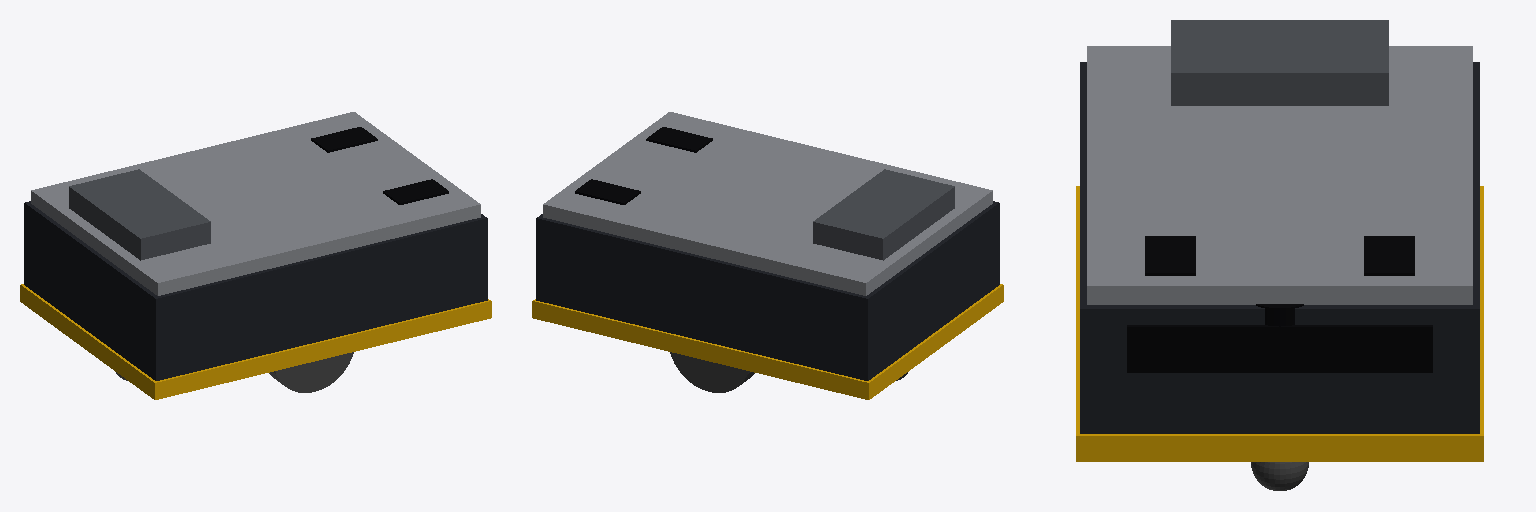
robot.urdf — warehouse_amr:
<?xml version="1.0" ?><!-- =================================================================================== --><!-- |    This document was autogenerated by xacro from src/sim/robot_description/urdf/warehouse_amr.urdf.xacro | --><!-- |    EDITING THIS FILE BY HAND IS NOT RECOMMENDED                                 | --><!-- =================================================================================== --><robot name="warehouse_amr"><!-- Low-deck warehouse AMR: the size a 1.80 m picking aisle is actually
       designed around (MiR250 / underride-tugger class), replacing the
       0.14 m TurtleBot3 Burger that read as a toy in warehouse_v2.

         body      0.800 x 0.550 m, deck top at 0.350 m
         wheels    r 0.100, separation 0.440, differential, casters fore/aft
         livery    charcoal chassis, hazard-yellow bumper band, grey load deck

       No saturated marker disks: heading is carried by the chassis itself.
       Seen from an oblique ceiling camera the front has a recessed sensor
       bar and the rear a raised control cabinet, so front and rear are
       distinguishable from above without lab colours.

       The Gazebo entity is still spawned as `turtlebot3` (bringup_sim.launch.py
       `-name`), so every /model/turtlebot3/... bridge and remap is unchanged.

       Keypoints stay virtual points anchored on the chassis, at the deck
       corners of the wheelbase. World Z with base_footprint at z=robot_z:
         z_world = robot_z + base_joint_z(0.010) + pm_marker_z(0.340) = 0.350. --><!-- ===================== --><!-- Materials --><!-- ===================== --><material name="chassis_charcoal"><color rgba="0.16 0.17 0.19 1.0"/></material><material name="deck_grey"><color rgba="0.55 0.56 0.58 1.0"/></material><material name="hazard_yellow"><color rgba="0.85 0.65 0.05 1.0"/></material><material name="sensor_black"><color rgba="0.06 0.06 0.07 1.0"/></material><material name="cabinet_grey"><color rgba="0.33 0.34 0.36 1.0"/></material><material name="dark"><color rgba="0.3 0.3 0.3 1"/></material><!-- ===================== --><!-- Base --><!-- ===================== --><link name="base_footprint"/><joint name="base_joint" type="fixed"><parent link="base_footprint"/><child link="base_link"/><origin xyz="0 0 0.010"/></joint><!-- ONE visual per link, deliberately. The URDF->SDF converter only resolves
       the material of a link's FIRST visual and paints every later one pure
       black (verified with `ign sdf -p`: visuals 1..6 came out 0 0 0 1), which
       rendered the whole chassis as a black slab. Each painted part therefore
       gets its own fixed-jointed link; Gazebo lumps them back into base_link. --><link name="base_link"><visual><origin xyz="0 0 0.195"/><geometry><box size="0.8 0.55 0.230"/></geometry><material name="chassis_charcoal"/></visual><collision><origin xyz="0 0 0.195"/><geometry><box size="0.8 0.55 0.270"/></geometry></collision><inertial><mass value="60.0"/><origin xyz="0 0 0.180"/><!-- solid box 0.80 x 0.55 x 0.26 about its own centre --><inertia ixx="1.85050e+00" ixy="0.0" ixz="0.0" iyy="3.53800e+00" iyz="0.0" izz="4.71250e+00"/></inertial></link><joint name="bumper_joint" type="fixed"><parent link="base_link"/><child link="bumper_link"/><origin xyz="0 0 0.100"/></joint><link name="bumper_link"><visual><geometry><box size="0.812 0.562 0.040"/></geometry><material name="hazard_yellow"/></visual><inertial><mass value="0.001"/><inertia ixx="1e-7" ixy="0" ixz="0" iyy="1e-7" iyz="0" izz="1e-7"/></inertial></link><joint name="deck_joint" type="fixed"><parent link="base_link"/><child link="deck_link"/><origin xyz="0 0 0.325"/></joint><link name="deck_link"><visual><geometry><box size="0.78 0.53 0.030"/></geometry><material name="deck_grey"/></visual><inertial><mass value="0.001"/><inertia ixx="1e-7" ixy="0" ixz="0" iyy="1e-7" iyz="0" izz="1e-7"/></inertial></link><joint name="sensor_bar_joint" type="fixed"><parent link="base_link"/><child link="sensor_bar_link"/><origin xyz="0.392 0 0.250"/></joint><link name="sensor_bar_link"><visual><geometry><box size="0.030 0.420 0.070"/></geometry><material name="sensor_black"/></visual><inertial><mass value="0.001"/><inertia ixx="1e-7" ixy="0" ixz="0" iyy="1e-7" iyz="0" izz="1e-7"/></inertial></link><joint name="deck_slot_left_joint" type="fixed"><parent link="base_link"/><child link="deck_slot_left_link"/><origin xyz="0.300 0.150 0.341"/></joint><link name="deck_slot_left_link"><visual><geometry><box size="0.120 0.070 0.008"/></geometry><material name="sensor_black"/></visual><inertial><mass value="0.001"/><inertia ixx="1e-7" ixy="0" ixz="0" iyy="1e-7" iyz="0" izz="1e-7"/></inertial></link><joint name="deck_slot_right_joint" type="fixed"><parent link="base_link"/><child link="deck_slot_right_link"/><origin xyz="0.300 -0.150 0.341"/></joint><link name="deck_slot_right_link"><visual><geometry><box size="0.120 0.070 0.008"/></geometry><material name="sensor_black"/></visual><inertial><mass value="0.001"/><inertia ixx="1e-7" ixy="0" ixz="0" iyy="1e-7" iyz="0" izz="1e-7"/></inertial></link><joint name="cabinet_joint" type="fixed"><parent link="base_link"/><child link="cabinet_link"/><origin xyz="-0.280 0 0.365"/></joint><link name="cabinet_link"><visual><geometry><box size="0.170 0.300 0.050"/></geometry><material name="cabinet_grey"/></visual><inertial><mass value="0.001"/><inertia ixx="1e-7" ixy="0" ixz="0" iyy="1e-7" iyz="0" izz="1e-7"/></inertial></link><joint name="wheel_left_joint" type="continuous"><parent link="base_link"/><child link="wheel_left_link"/><origin rpy="-1.5708 0 0" xyz="0 0.22 0.09000000000000001"/><axis xyz="0 0 1"/></joint><link name="wheel_left_link"><visual><geometry><cylinder length="0.050" radius="0.1"/></geometry><material name="dark"/></visual><collision><geometry><cylinder length="0.050" radius="0.1"/></geometry></collision><inertial><mass value="2.0"/><origin xyz="0 0 0"/><inertia ixx="5.41667e-03" ixy="0.0" ixz="0.0" iyy="5.41667e-03" iyz="0.0" izz="1.00000e-02"/></inertial></link><joint name="wheel_right_joint" type="continuous"><parent link="base_link"/><child link="wheel_right_link"/><origin rpy="-1.5708 0 0" xyz="0 -0.22 0.09000000000000001"/><axis xyz="0 0 1"/></joint><link name="wheel_right_link"><visual><geometry><cylinder length="0.050" radius="0.1"/></geometry><material name="dark"/></visual><collision><geometry><cylinder length="0.050" radius="0.1"/></geometry></collision><inertial><mass value="2.0"/><origin xyz="0 0 0"/><inertia ixx="5.41667e-03" ixy="0.0" ixz="0.0" iyy="5.41667e-03" iyz="0.0" izz="1.00000e-02"/></inertial></link><joint name="caster_front_joint" type="fixed"><parent link="base_link"/><child link="caster_front_link"/><origin xyz="0.3 0 0.030"/></joint><link name="caster_front_link"><visual><geometry><sphere radius="0.040"/></geometry><material name="dark"/></visual><collision><geometry><sphere radius="0.040"/></geometry><surface><friction><ode><mu>0.05</mu><mu2>0.05</mu2></ode></friction></surface></collision><inertial><mass value="0.30"/><inertia ixx="1.92e-04" ixy="0" ixz="0" iyy="1.92e-04" iyz="0" izz="1.92e-04"/></inertial></link><joint name="caster_rear_joint" type="fixed"><parent link="base_link"/><child link="caster_rear_link"/><origin xyz="-0.3 0 0.030"/></joint><link name="caster_rear_link"><visual><geometry><sphere radius="0.040"/></geometry><material name="dark"/></visual><collision><geometry><sphere radius="0.040"/></geometry><surface><friction><ode><mu>0.05</mu><mu2>0.05</mu2></ode></friction></surface></collision><inertial><mass value="0.30"/><inertia ixx="1.92e-04" ixy="0" ixz="0" iyy="1.92e-04" iyz="0" izz="1.92e-04"/></inertial></link><!-- ===================== --><!-- IMU --><!-- ===================== --><joint name="imu_joint" type="fixed"><parent link="base_link"/><child link="imu_link"/><origin xyz="0 0 0.200"/></joint><link name="imu_link"/><!-- ===================== --><!-- LiDAR: front-mounted, same sensor contract as the Burger so every
       downstream consumer of /scan is unchanged. --><!-- ===================== --><joint name="scan_joint" type="fixed"><parent link="base_link"/><child link="base_scan"/><origin xyz="0.360 0 0.290"/></joint><link name="base_scan"><visual><geometry><cylinder length="0.045" radius="0.045"/></geometry><material name="sensor_black"/></visual><inertial><mass value="0.114"/><origin xyz="0 0 0"/><inertia ixx="0.001" ixy="0.0" ixz="0.0" iyy="0.001" iyz="0.0" izz="0.001"/></inertial></link><!-- ================= Gazebo Harmonic DiffDrive ================= --><gazebo><plugin filename="gz-sim-label-system" name="ignition::gazebo::systems::Label"><label>23</label></plugin><plugin filename="gz-sim-diff-drive-system" name="gz::sim::systems::DiffDrive"><left_joint>wheel_left_joint</left_joint><right_joint>wheel_right_joint</right_joint><wheel_separation>0.44</wheel_separation><wheel_radius>0.1</wheel_radius><topic>/model/turtlebot3/cmd_vel</topic><odom_topic>/model/turtlebot3/odometry</odom_topic><frame_id>odom</frame_id><child_frame_id>base_link</child_frame_id><odom_publish_frequency>50</odom_publish_frequency><publish_tf>true</publish_tf></plugin></gazebo></robot>

--- Facts derived from the render (not from the file) ---
The picture shows the robot from 3 angles, left to right: view 1: azimuth 30°, elevation 25°; view 2: azimuth 150°, elevation 25°; view 3: azimuth 270°, elevation 25°; orthographic projection.
Model warehouse_amr with 14 links and 13 joints (2 continuous, 11 fixed), rooted at base_footprint, posed every joint at zero.
Visible links, largest first — view 1: base_link, deck_link, bumper_link, cabinet_link, wheel_right_link, deck_slot_left_link, deck_slot_right_link; view 2: base_link, deck_link, bumper_link, cabinet_link, wheel_left_link, deck_slot_right_link, deck_slot_left_link; view 3: deck_link, base_link, cabinet_link, sensor_bar_link, bumper_link, deck_slot_left_link, deck_slot_right_link, caster_front_link, base_scan.
Link boxes in pixels (box(x1,y1,x2,y2)): base_link: box(24, 201, 487, 380); deck_link: box(31, 112, 480, 295); bumper_link: box(20, 284, 491, 399); cabinet_link: box(69, 169, 210, 260); wheel_right_link: box(269, 352, 353, 392); deck_slot_left_link: box(311, 127, 377, 152); deck_slot_right_link: box(383, 179, 448, 204); base_link: box(536, 201, 999, 380); deck_link: box(543, 112, 992, 295); bumper_link: box(532, 284, 1003, 399); cabinet_link: box(813, 169, 954, 260); wheel_left_link: box(670, 352, 754, 392); deck_slot_right_link: box(646, 127, 712, 152); deck_slot_left_link: box(575, 179, 640, 204); deck_link: box(1087, 46, 1472, 304); base_link: box(1080, 62, 1479, 433); cabinet_link: box(1171, 20, 1388, 105); sensor_bar_link: box(1127, 325, 1432, 372); bumper_link: box(1076, 186, 1483, 461); deck_slot_left_link: box(1364, 236, 1414, 275); deck_slot_right_link: box(1145, 236, 1195, 275); caster_front_link: box(1251, 462, 1308, 490); base_scan: box(1256, 304, 1303, 326).
Bounding box of the posed robot: 0.813 × 0.562 × 0.4 m (x, y, z).
Geometry: primitives only (box / cylinder / sphere), no mesh files.
